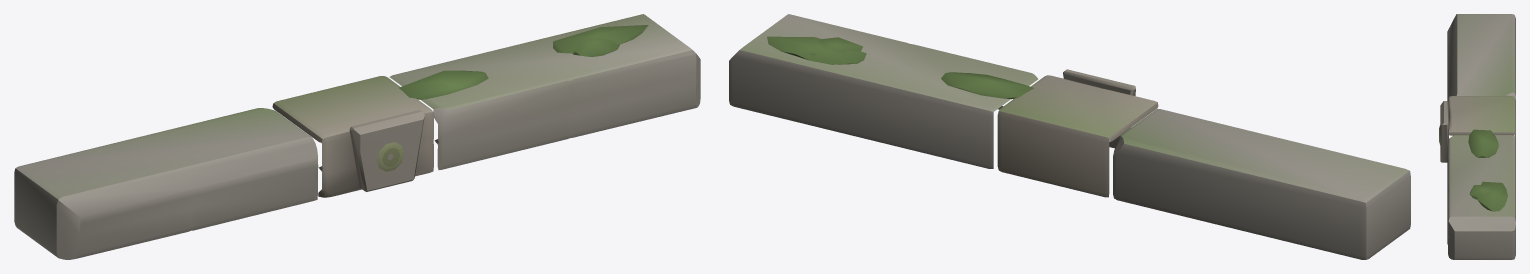
File: ruins-lintel-v2.glb
3 renders of one model, left to right at view 1: azimuth 30°, elevation 25°; view 2: azimuth 150°, elevation 25°; view 3: azimuth 270°, elevation 25°, orthographic. The views are drawn at different scales.
Parts seen in each view (by area): view 1: 0_ruins_lintel; view 2: 0_ruins_lintel; view 3: 0_ruins_lintel.
Part boxes in pixels (box(x1,y1,x2,y2)): 0_ruins_lintel: box(14, 14, 700, 259); 0_ruins_lintel: box(729, 14, 1410, 259); 0_ruins_lintel: box(1439, 14, 1515, 259).
Bounding box in the file's own units: 4.62 × 0.47 × 0.72.
